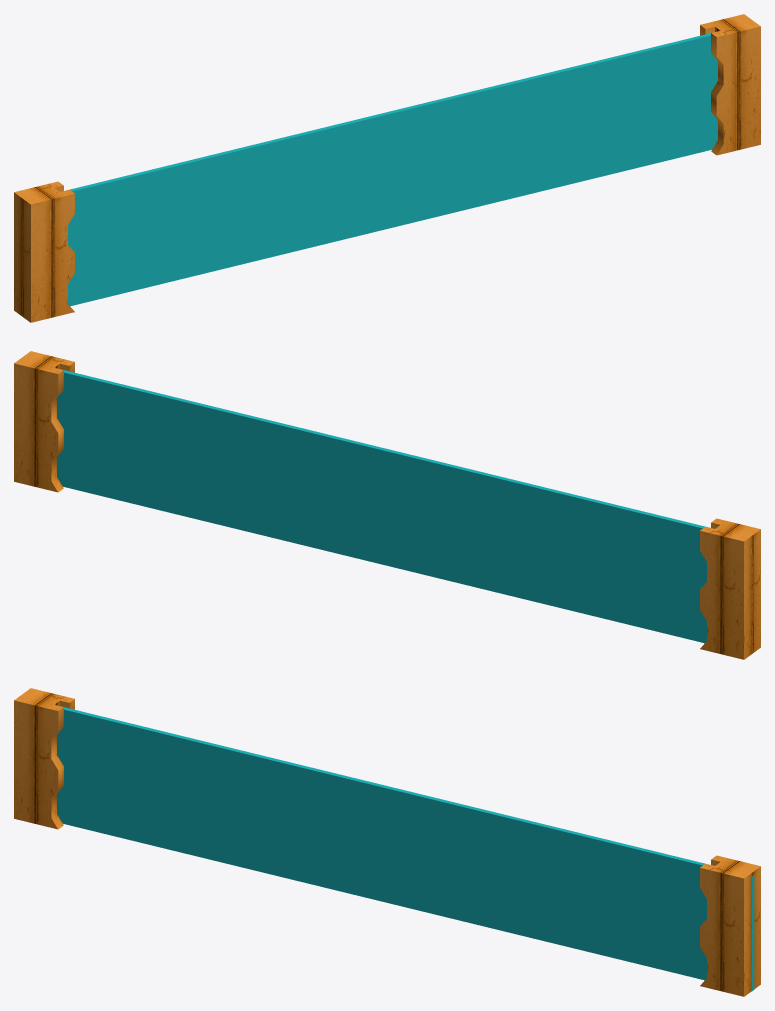
Rendered from Barrier.FBX.
The picture shows the model from 3 angles, top to bottom: view 1: azimuth 30°, elevation 25°; view 2: azimuth 150°, elevation 25°; view 3: azimuth 330°, elevation 25°; orthographic projection.
Visible parts, largest first — view 1: Object002, Box001; view 2: Object002, Box001; view 3: Object002, Box001.
Boxes of the visible parts, x1,y1,x2,y2 form: Object002: [68, 33, 717, 306]; Box001: [14, 14, 760, 322]; Object002: [57, 370, 706, 643]; Box001: [14, 351, 760, 659]; Object002: [57, 707, 754, 991]; Box001: [14, 688, 760, 996].
Size of the model in its own units: 100 by 15.52 by 4.
